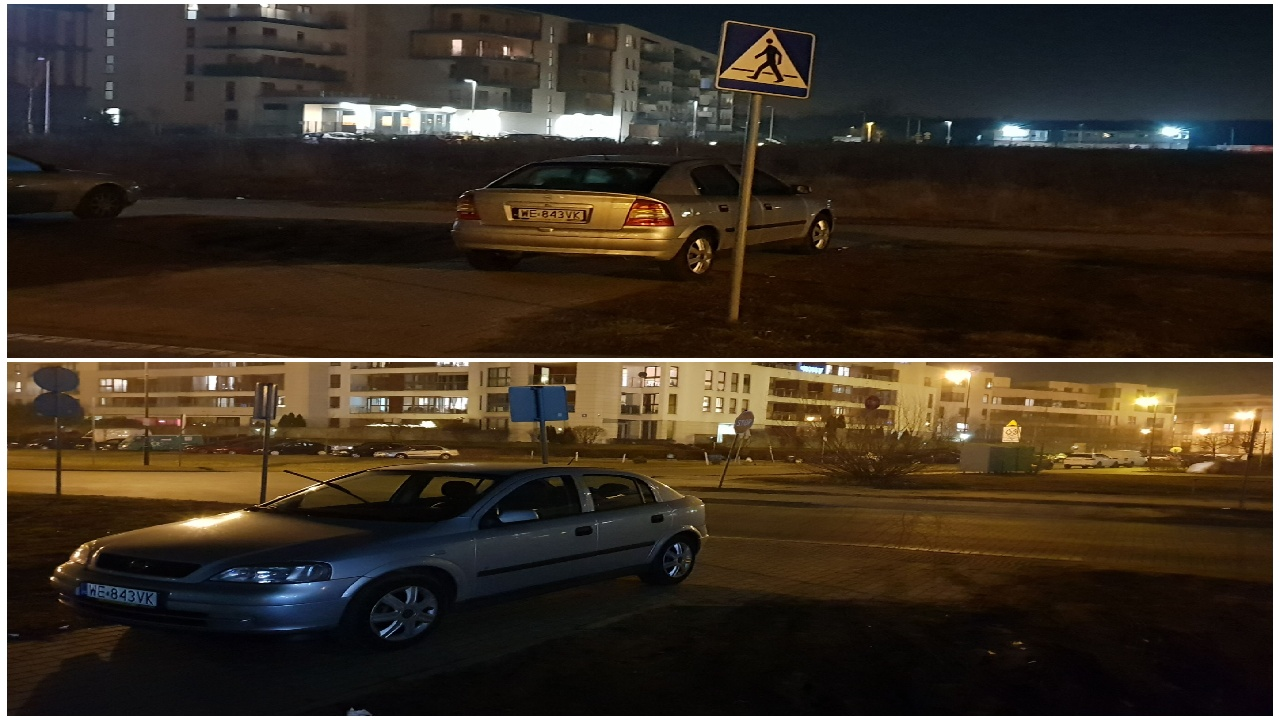D6: (714, 14, 818, 107)
